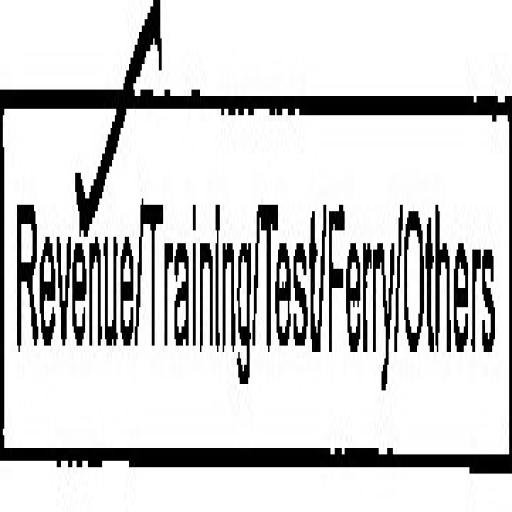check: (0, 0, 139, 486)
